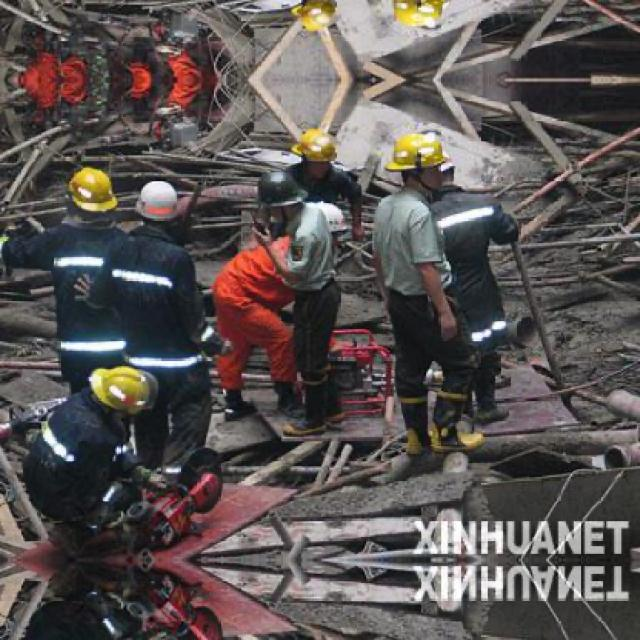helmet: (84, 368, 154, 417), (386, 132, 446, 188), (66, 168, 119, 220), (255, 171, 308, 217), (292, 128, 337, 178), (135, 182, 180, 226), (385, 0, 446, 29), (291, 0, 337, 34)
